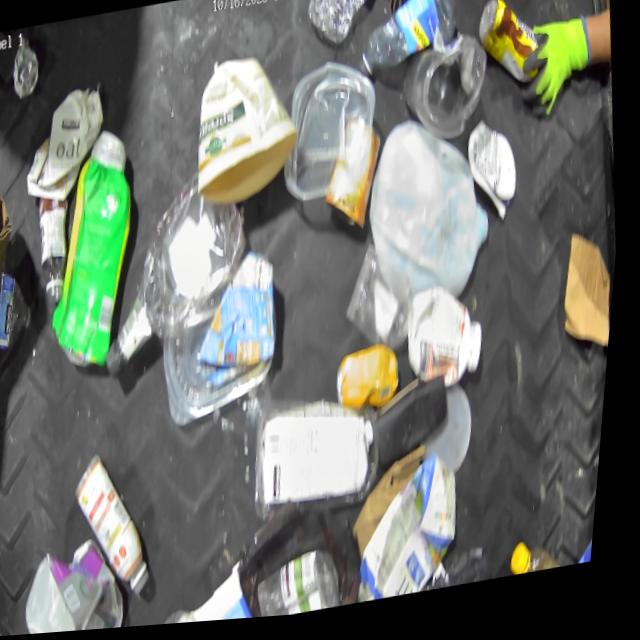can: (318, 127, 395, 243), (336, 346, 412, 422)
milk_jug: (355, 111, 508, 324)
plastic_bottle: (91, 167, 270, 387), (351, 0, 465, 85), (301, 0, 383, 56), (0, 267, 44, 355)
